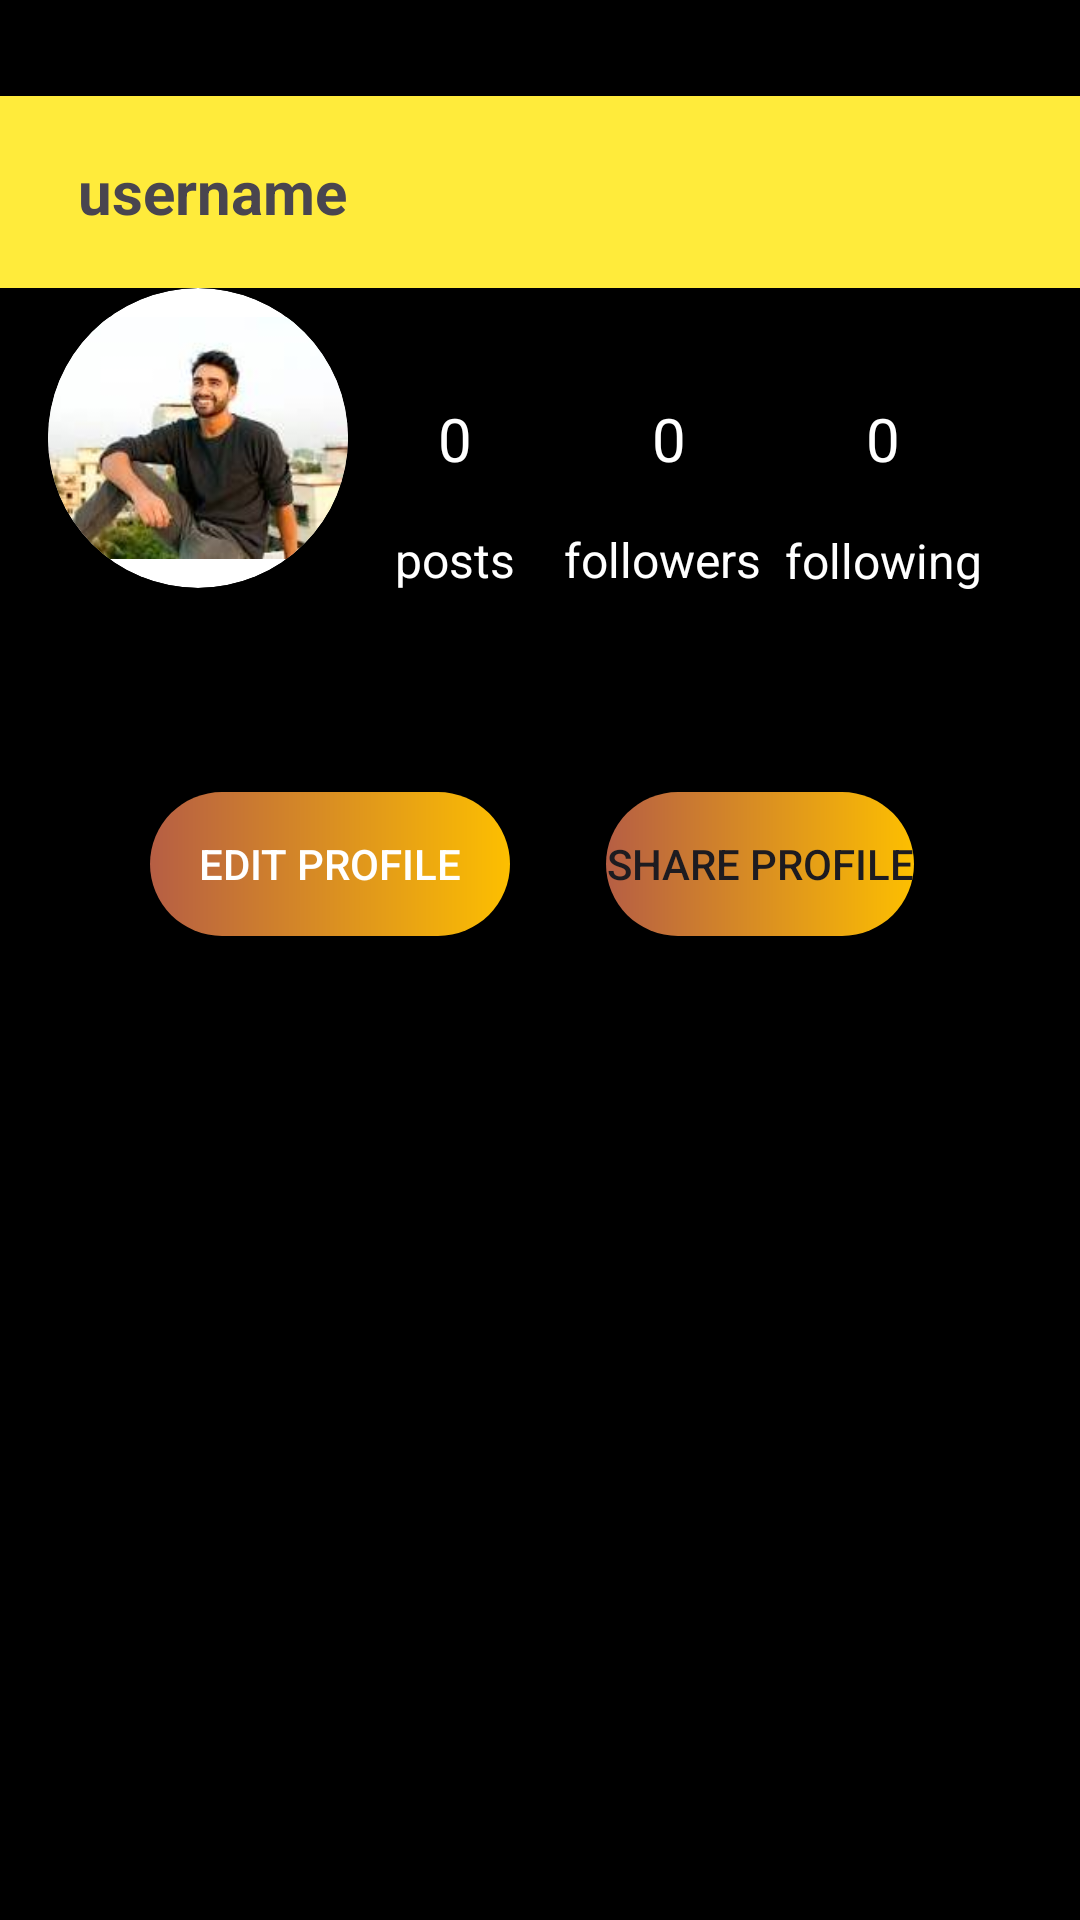

Named icons in this screenshot (1080px×1920px) and their bounding boxes, (x1, y1, x2, y2):
manimage: (48, 288, 348, 588)
